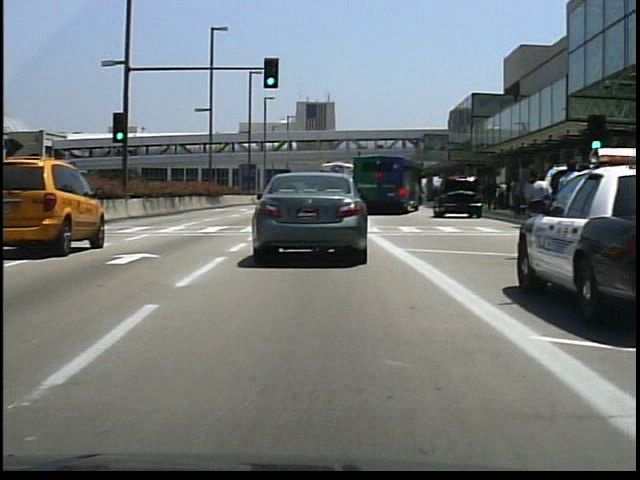person: (515, 163, 554, 263), (53, 171, 74, 218), (34, 167, 50, 226)
